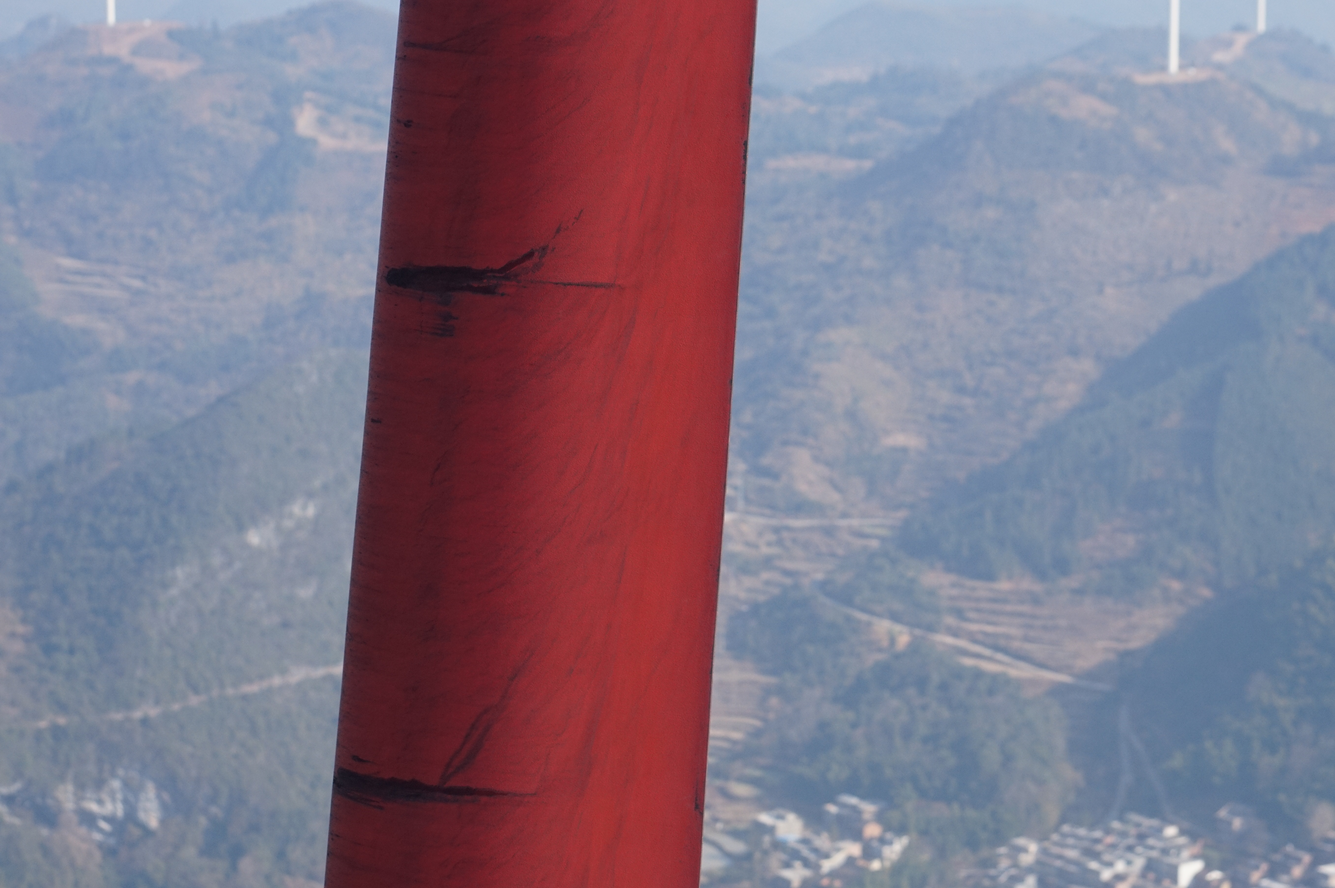Dirt: (384, 243, 550, 306), (333, 767, 522, 811)
